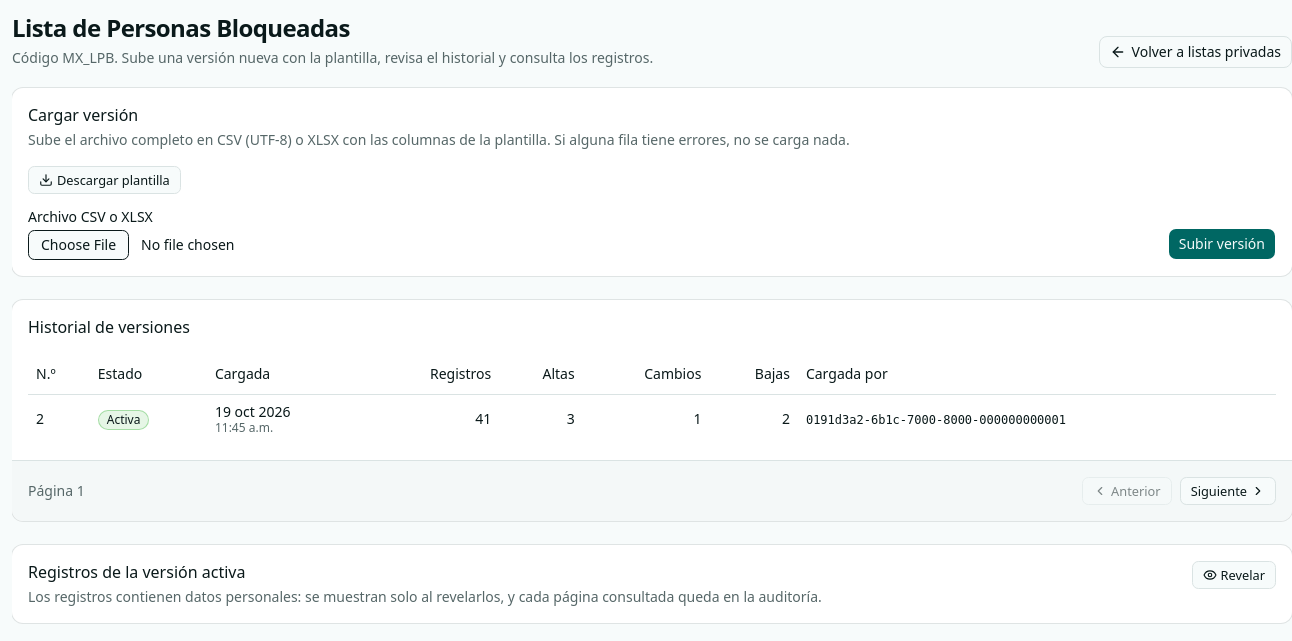
Scenario: PrivateListPage: history › lists the versions with their counts and pages to older ones
Expected: the icon "Activa" is shown, [98,410,149,430]
Click the button "Siguiente": click(1228, 491) [1180,477,1276,505]
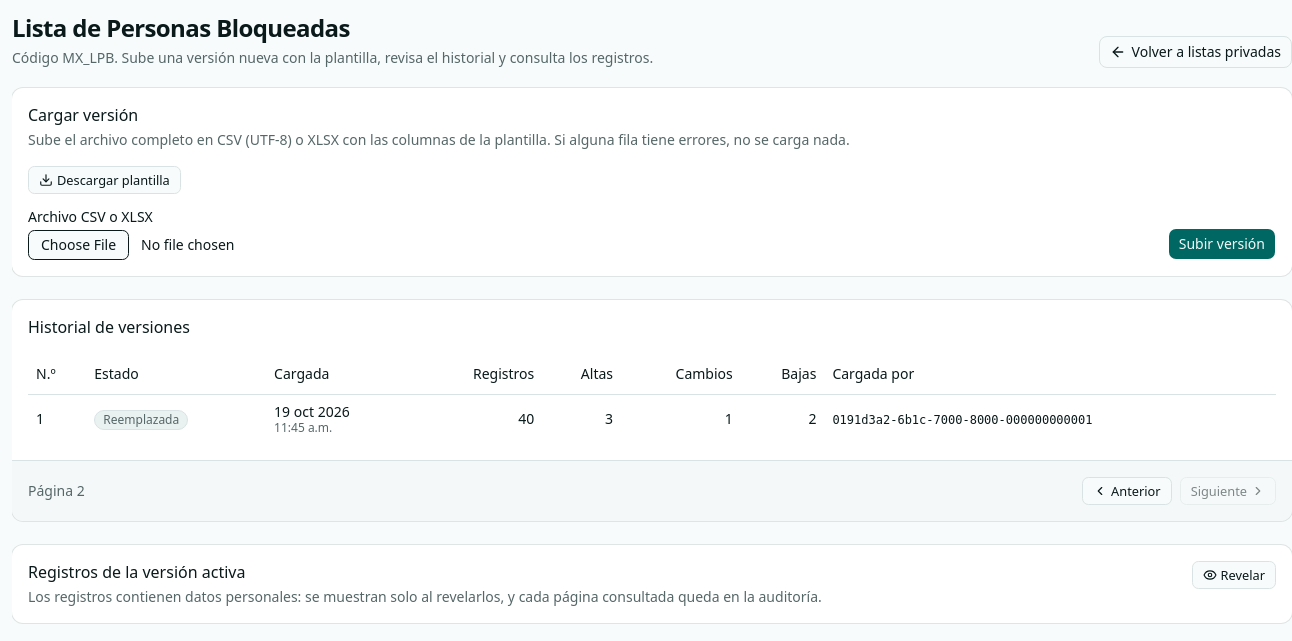
Result: the text "Reemplazada" is shown at [94,410,188,430]
